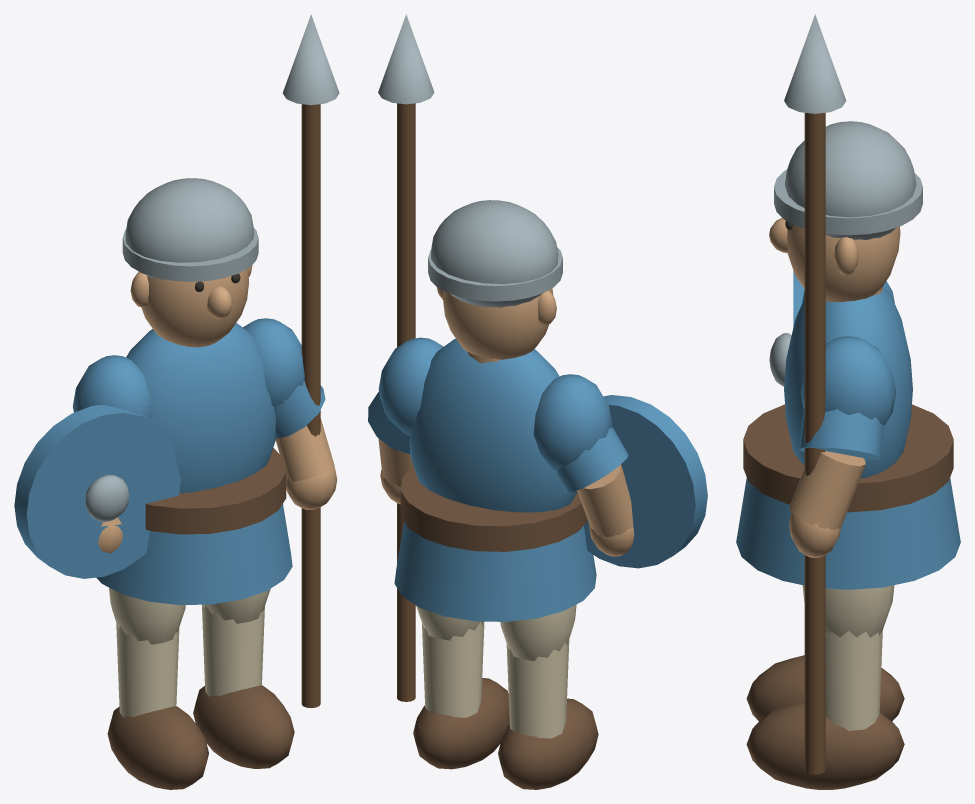
File: spearman.glb
3 renders of one model, left to right at view 1: azimuth 30°, elevation 25°; view 2: azimuth 150°, elevation 25°; view 3: azimuth 270°, elevation 25°, orthographic. The views are drawn at different scales.
Visible parts, largest first — view 1: spearman; view 2: spearman; view 3: spearman.
Boxes of the visible parts, left/top/right/bottom form: spearman: left=14, top=14, right=339, bottom=789; spearman: left=368, top=14, right=707, bottom=789; spearman: left=736, top=14, right=960, bottom=789.
Bounding box in the file's own units: 0.97 × 2.13 × 0.54.
